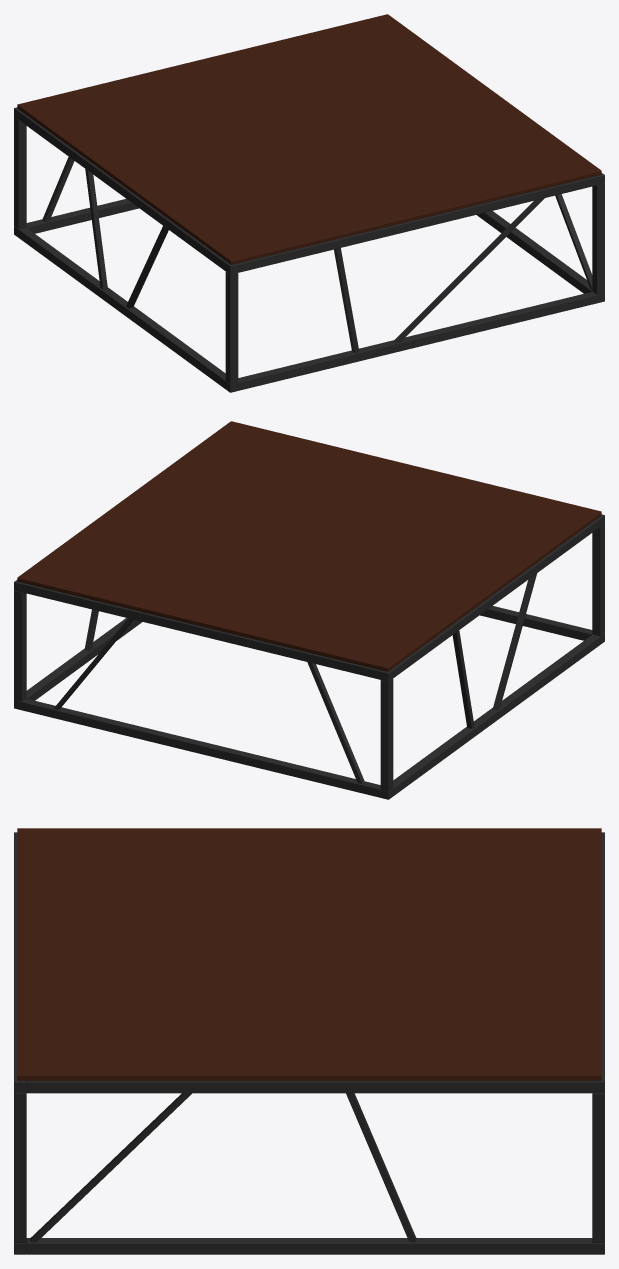
File: CenterTableV1.FBX
The picture shows the model from 3 angles, top to bottom: view 1: azimuth 30°, elevation 25°; view 2: azimuth 150°, elevation 25°; view 3: azimuth 270°, elevation 25°; orthographic projection. The views are drawn at different scales.
Visible parts, largest first — view 1: CenterTableV1; view 2: CenterTableV1; view 3: CenterTableV1.
Boxes of the visible parts, x1=… form: CenterTableV1: x1=14, y1=14, x2=604, y2=392; CenterTableV1: x1=14, y1=421, x2=604, y2=799; CenterTableV1: x1=14, y1=828, x2=604, y2=1254.
Size of the model in its own units: 0.93 by 0.93 by 0.3094.
